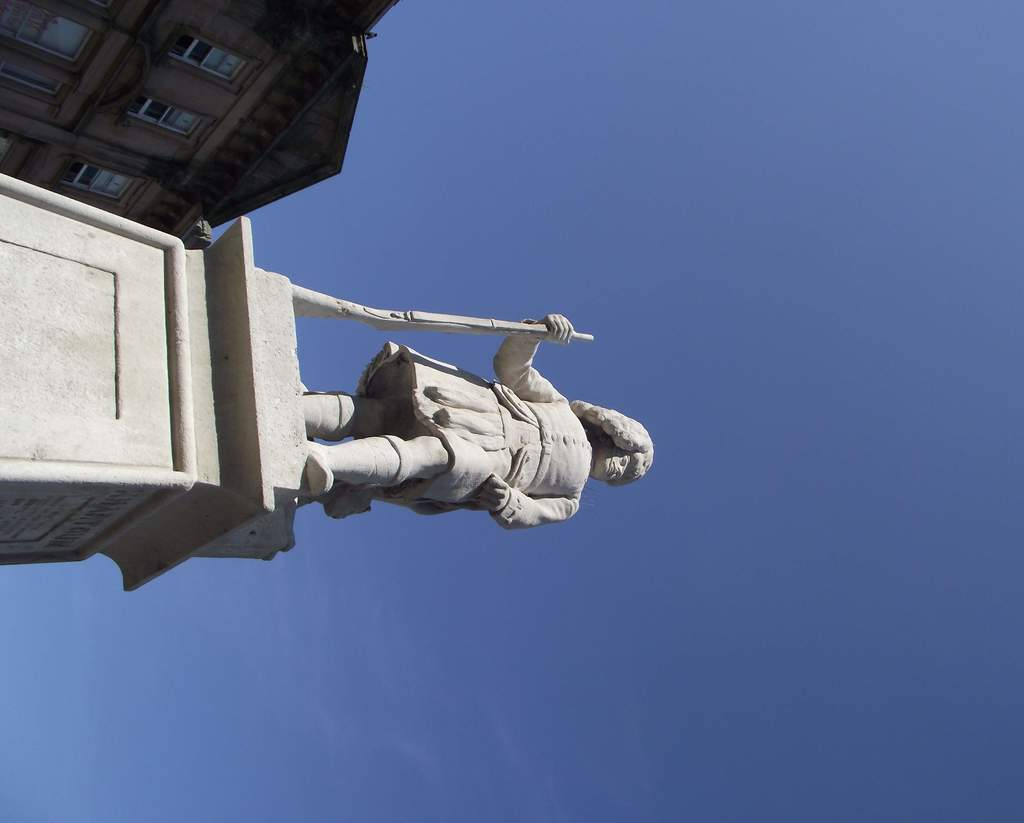Person: (304, 314, 652, 529)
